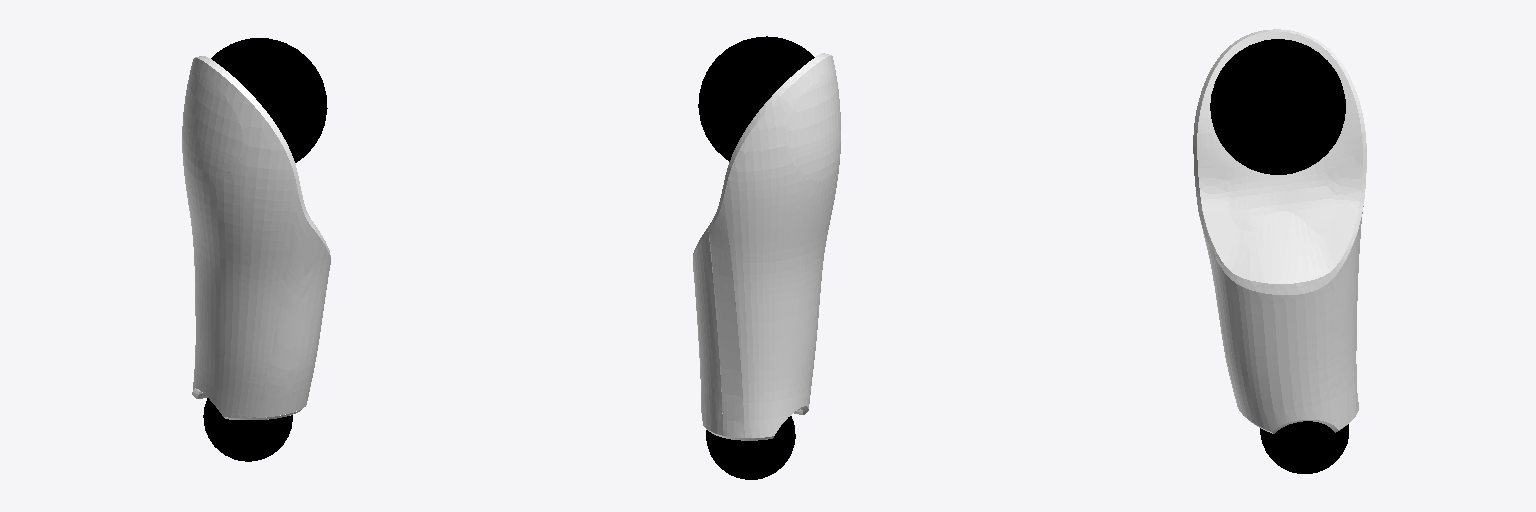
Rendered from upperArm.obj.
The picture shows the model from 3 angles: view 1: azimuth 30°, elevation 25°; view 2: azimuth 150°, elevation 25°; view 3: azimuth 270°, elevation 25°; orthographic projection.
Visible parts, largest first — view 1: Sup13; view 2: Sup13; view 3: Sup13.
Part boxes in pixels (bbox=[...]): Sup13: bbox=[182, 38, 330, 461]; Sup13: bbox=[693, 36, 840, 479]; Sup13: bbox=[1193, 29, 1366, 473].
Size of the model in its own units: 4.14 by 13.64 by 5.06.